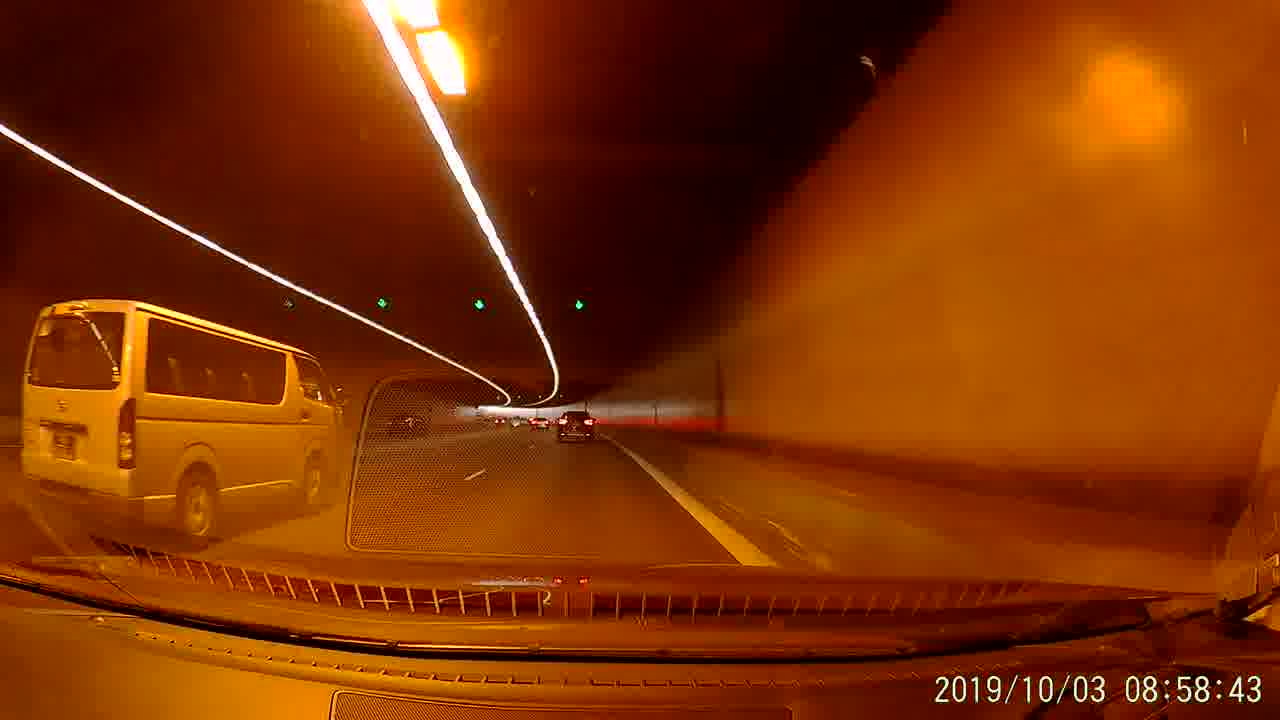car: (557, 407, 598, 447), (386, 411, 427, 440), (529, 412, 552, 433)
